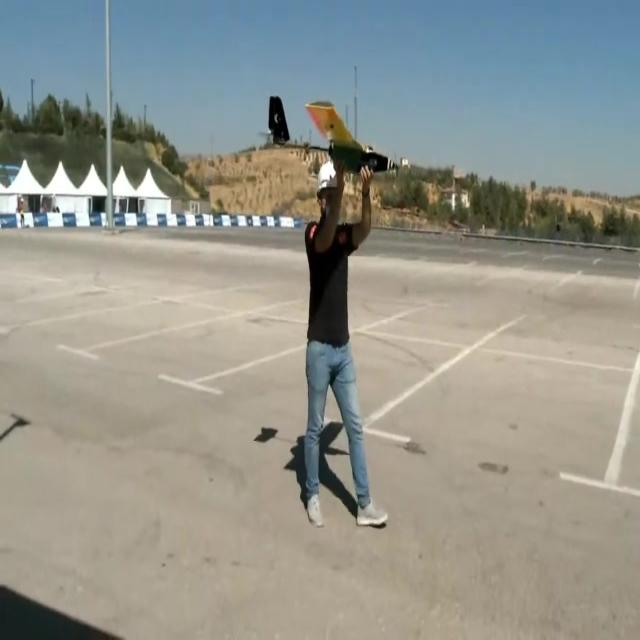iha: (254, 117, 397, 143)
